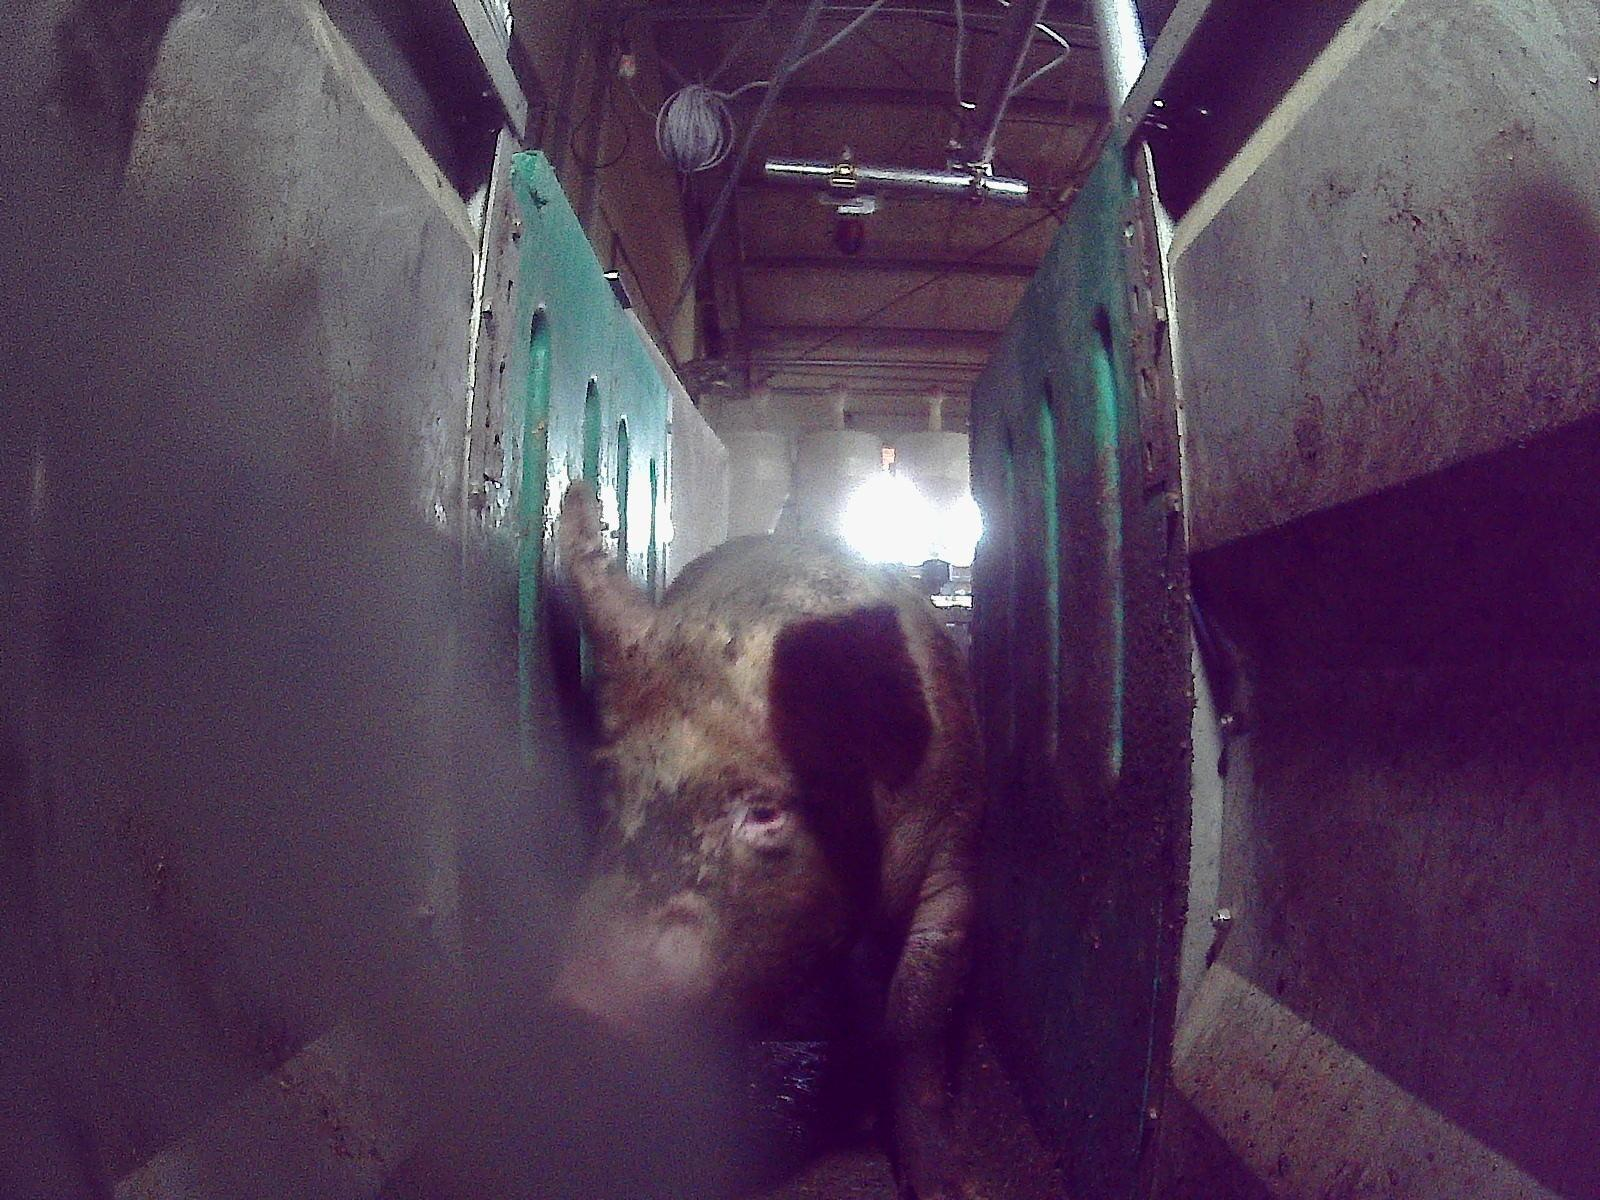Face: (546, 651, 849, 1074)
